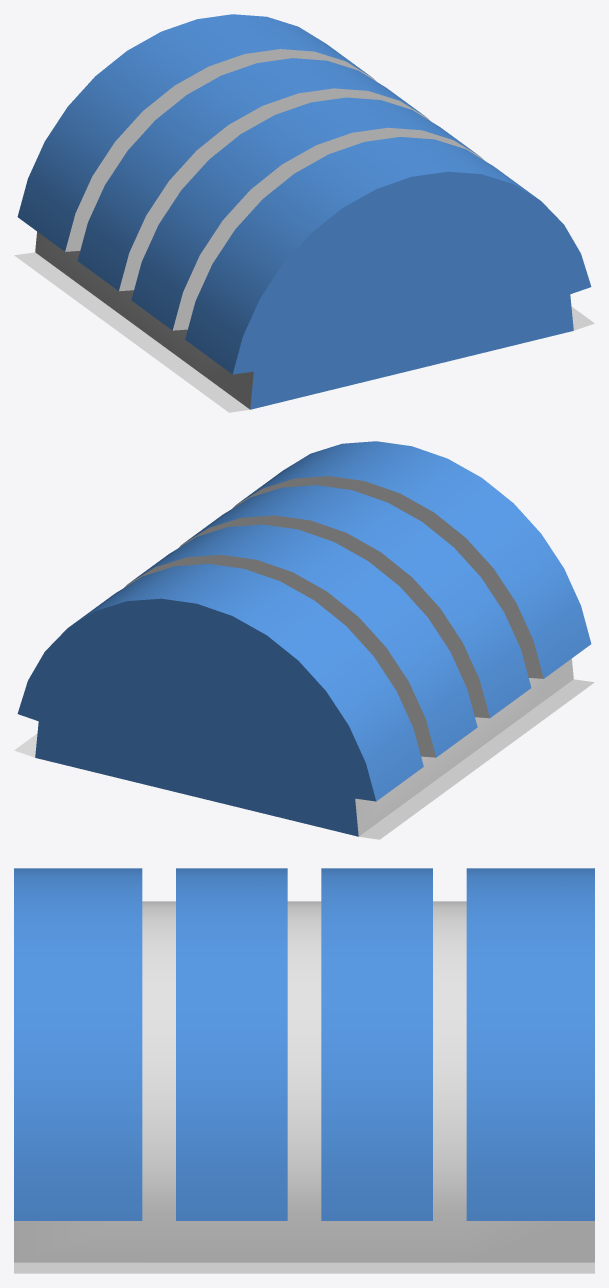
Rendered from BarrelRoof.fbx.
3 views of the same model, one above another, from view 1: azimuth 30°, elevation 25°; view 2: azimuth 150°, elevation 25°; view 3: azimuth 270°, elevation 25° (orthographic). The views are drawn at different scales.
Parts seen in each view (by area): view 1: Circle; view 2: Circle; view 3: Circle.
Part boxes in pixels (bbox=[...]): Circle: bbox=[14, 14, 594, 412]; Circle: bbox=[14, 441, 594, 839]; Circle: bbox=[14, 868, 594, 1273].
Size of the model in its own units: 1473 by 1500 by 745.
